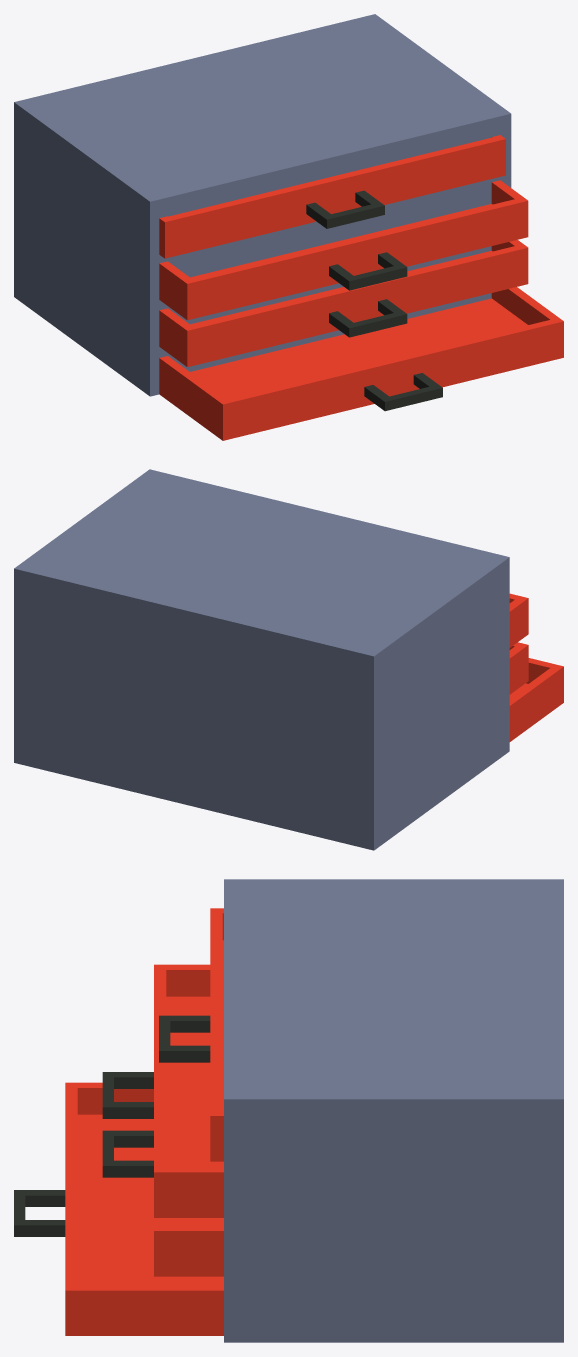
File: SM_drawerbox_01.fbx
3 views of the same model, one above another, from view 1: azimuth 30°, elevation 25°; view 2: azimuth 150°, elevation 25°; view 3: azimuth 270°, elevation 25° (orthographic). The views are drawn at different scales.
Visible parts, largest first — view 1: drawerbox_01; view 2: drawerbox_01; view 3: drawerbox_01.
Boxes of the visible parts, bbox=[...] form: drawerbox_01: bbox=[14, 14, 563, 440]; drawerbox_01: bbox=[14, 469, 563, 850]; drawerbox_01: bbox=[14, 879, 563, 1342].
Size of the model in its own units: 86.04 by 44.35 by 90.86.
